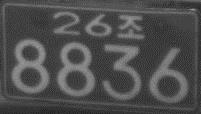2: (52, 10, 81, 36)
3: (101, 42, 142, 101)
6: (148, 46, 188, 104), (84, 12, 112, 38)
8: (55, 41, 96, 98), (10, 38, 50, 95)
조: (116, 13, 145, 39)
